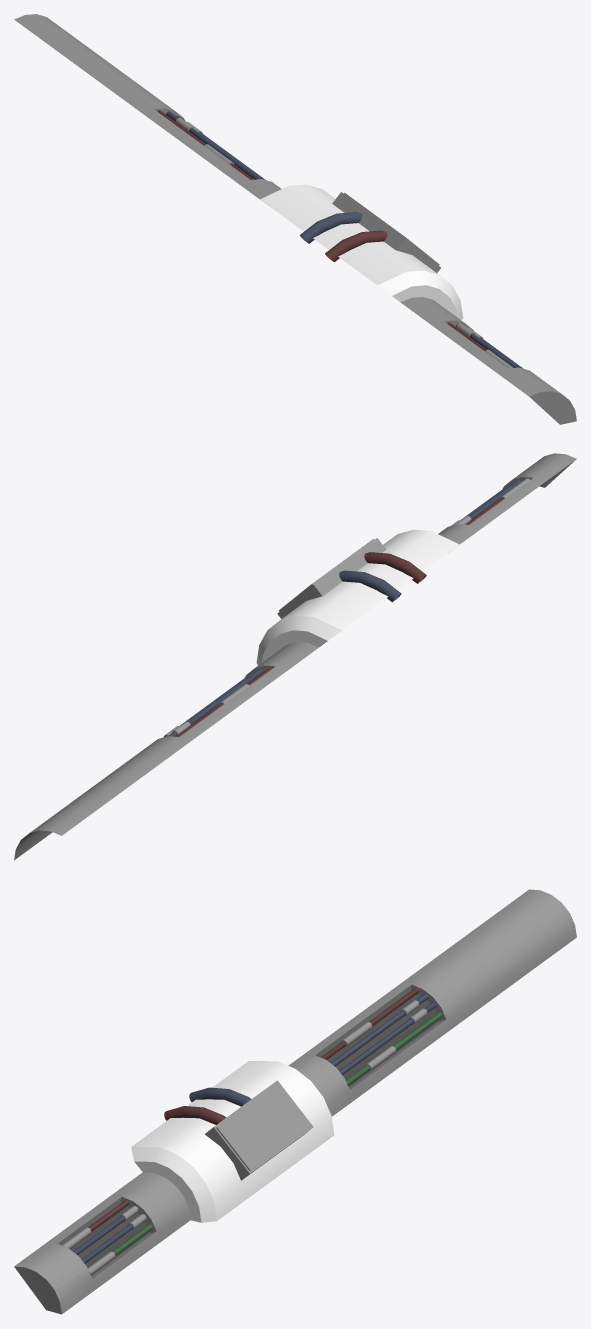
File: Engineering_Power_Cables.fbx
3 views of the same model, one above another, from view 1: azimuth 30°, elevation 25°; view 2: azimuth 150°, elevation 25°; view 3: azimuth 330°, elevation 25° (orthographic).
Visible parts, largest first — view 1: Engineering_Power_Cables; view 2: Engineering_Power_Cables; view 3: Engineering_Power_Cables.
Part boxes in pixels (x1,y1,x2,y2): Engineering_Power_Cables: (14, 14, 576, 424); Engineering_Power_Cables: (14, 453, 576, 860); Engineering_Power_Cables: (14, 889, 576, 1314).
Bounding box in the file's own units: 448 × 292 × 4009.
